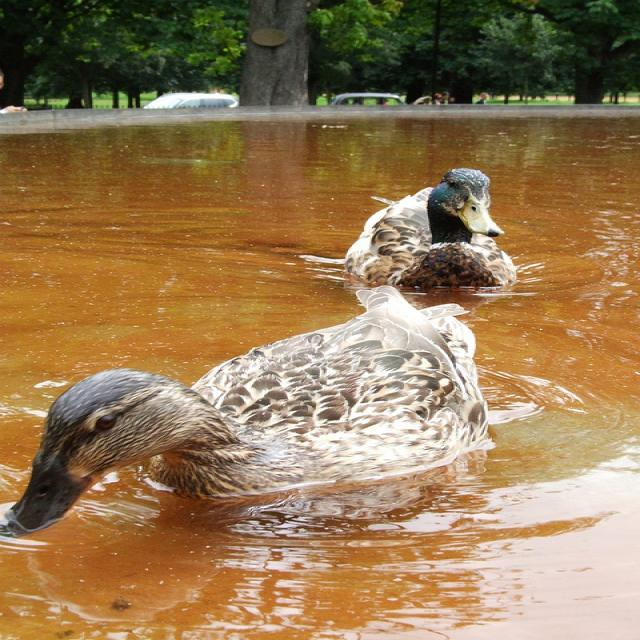Vehicle: (143, 92, 240, 108), (327, 92, 408, 105)
